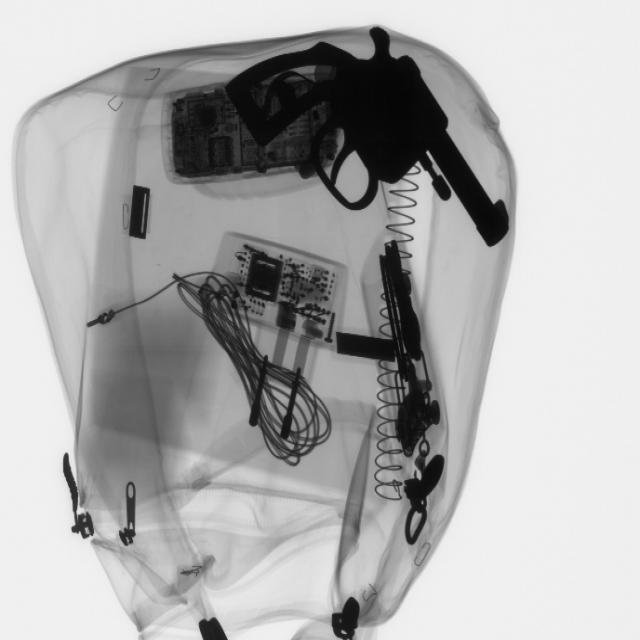GUN: (235, 26, 524, 255)
